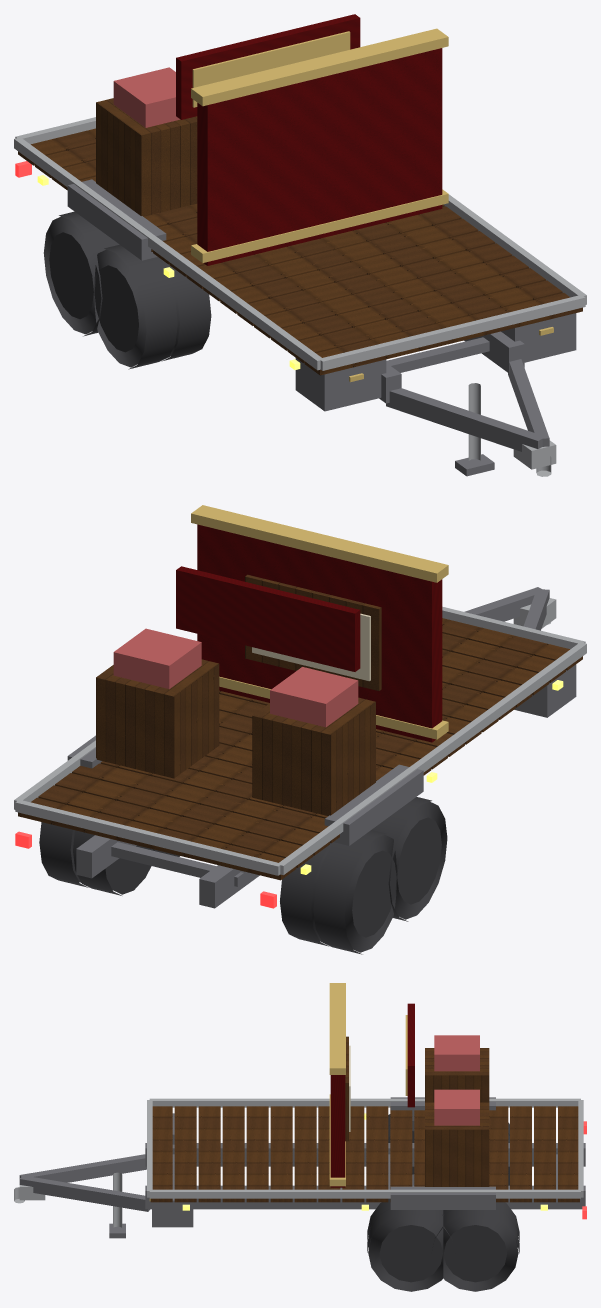
Rendered from trailer_booth.glb.
3 renders of one model, top to bottom at view 1: azimuth 30°, elevation 25°; view 2: azimuth 150°, elevation 25°; view 3: azimuth 270°, elevation 25°, orthographic. The views are drawn at different scales.
Visible parts, largest first — view 1: body, wheel_L2_1, wheel_L2_0, wheel_L_1; view 2: body, wheel_L2_0, wheel_L2_1, wheel_L_0, wheel_R_0, wheel_R2_0; view 3: body, wheel_R2_1, wheel_R2_0.
Part boxes in pixels (bbox=[...]): body: bbox=[14, 14, 586, 476]; wheel_L2_1: bbox=[94, 244, 177, 369]; wheel_L2_0: bbox=[43, 211, 119, 336]; wheel_L_1: bbox=[158, 257, 211, 361]; body: bbox=[14, 505, 586, 908]; wheel_L2_0: bbox=[313, 830, 396, 954]; wheel_L2_1: bbox=[371, 797, 447, 921]; wheel_L_0: bbox=[280, 842, 333, 946]; wheel_R_0: bbox=[73, 830, 157, 895]; wheel_R2_0: bbox=[39, 822, 88, 887]; body: bbox=[14, 983, 585, 1238]; wheel_R2_1: bbox=[367, 1209, 451, 1291]; wheel_R2_0: bbox=[432, 1208, 519, 1291].
Bounding box in the file's own units: 2.73 × 2.59 × 6.25.
10 materials, 2 textured.
